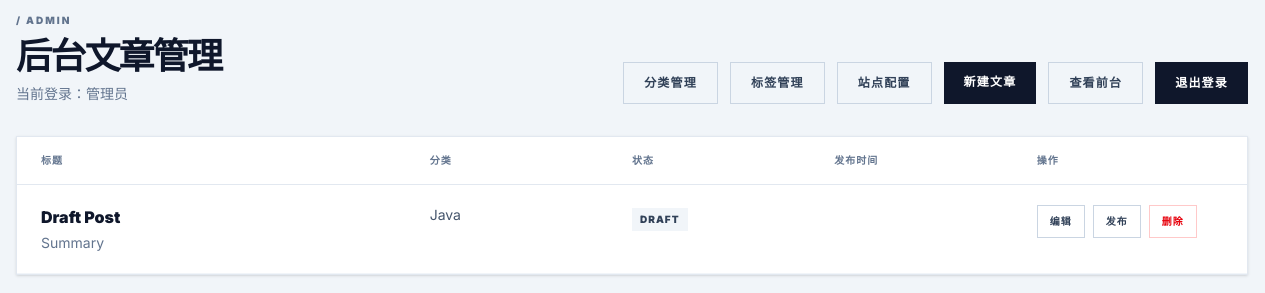
Test case: AdminPosts page › publishes draft post from list
Expected: the text "Draft Post" is shown, [41,207,120,227]
What coordinates should you click on to do the following:
click the button "发布"
I would click on:
 (1117, 222)
Its box is [1093,205,1141,238].
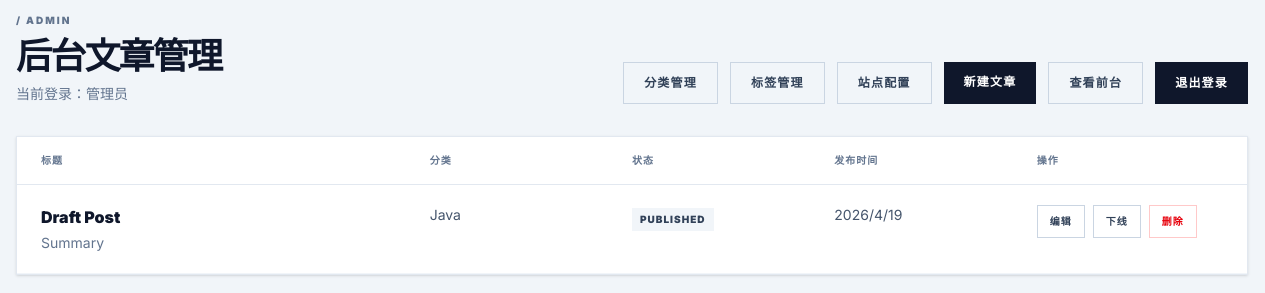
Result: the text "PUBLISHED" is shown at [632,208,714,231]
